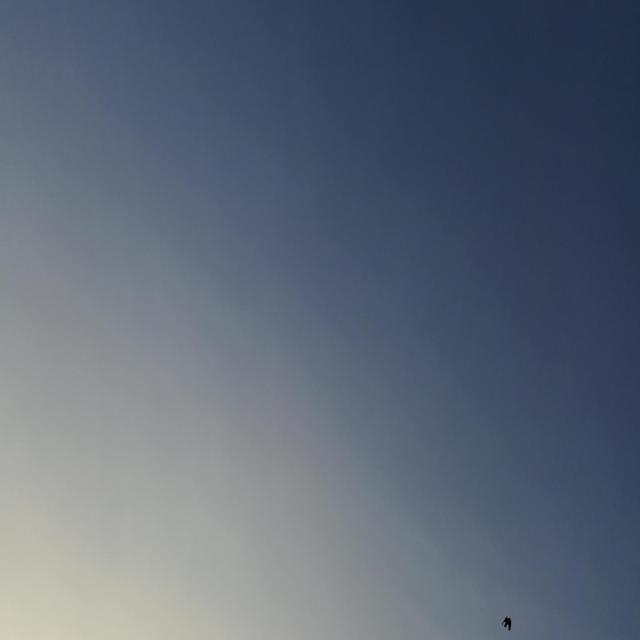Birds: (495, 606, 517, 636)
